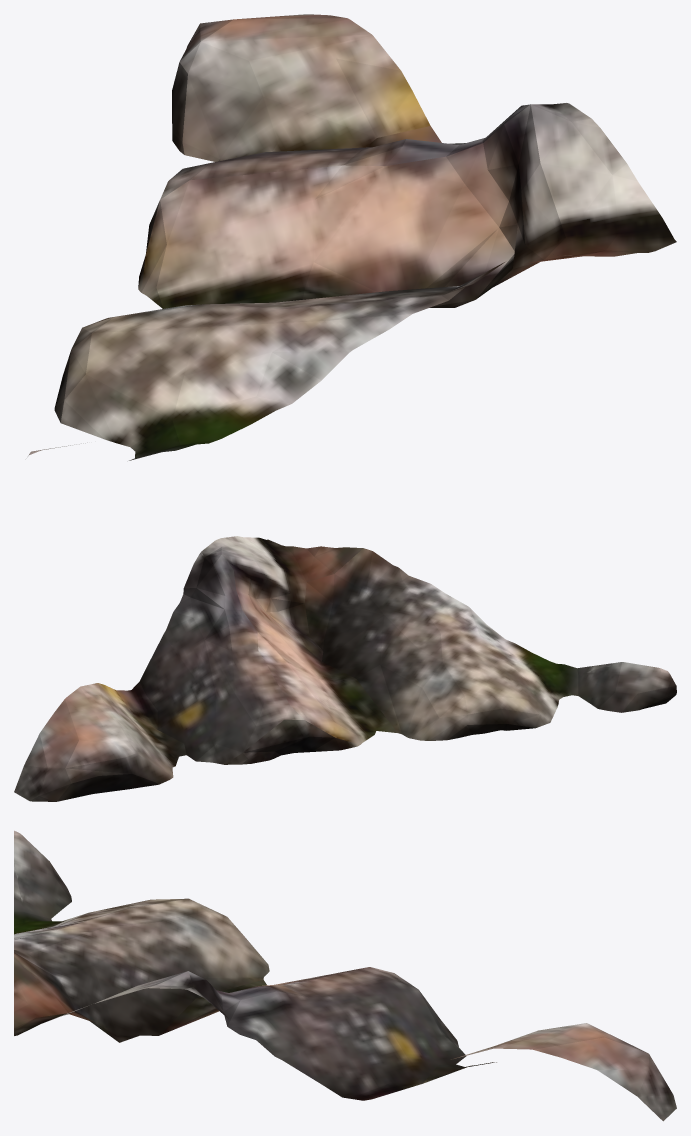
3 views of the same model, one above another, from view 1: azimuth 30°, elevation 25°; view 2: azimuth 150°, elevation 25°; view 3: azimuth 270°, elevation 25° (orthographic). The views are drawn at different scales.
Size of the model in its own units: 0.4762 by 0.1192 by 0.5232.
Materials: 1 (1 with a texture image).
